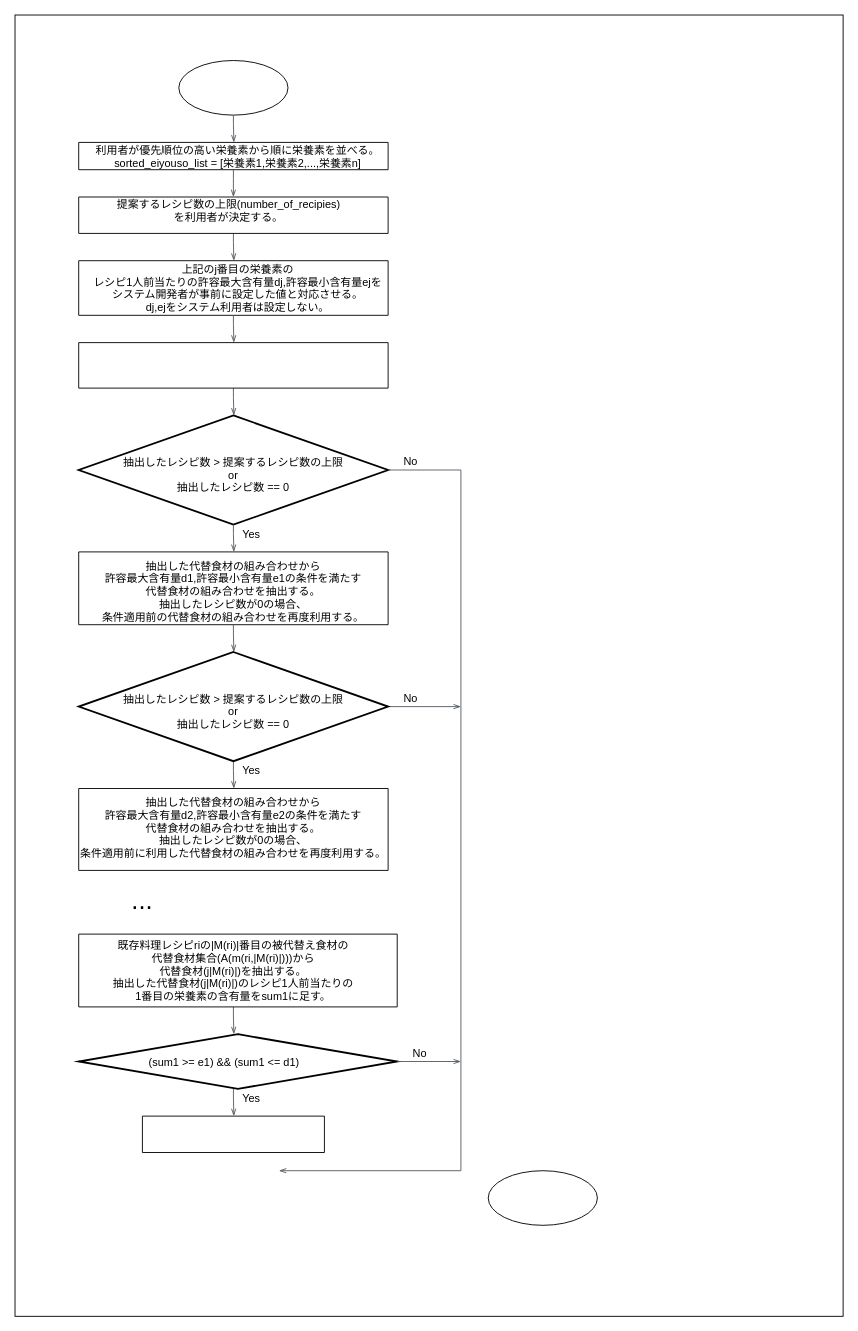
This 858x1331 diagram has some shape labels left out. The centre of each missing label's shape, as x and y in pixels:
代替食材の全ての組み合わせから 許容最大含有量d1,許容最小含有量e1の条件を満たす 代替食材の組み合わせを抽出する。: the point at 233,365
候補r'(i,j1,j2,...,j|M(ri)|)の生成と保存: the point at 233,1134
終了: the point at 542,1197
開始: the point at 233,87
